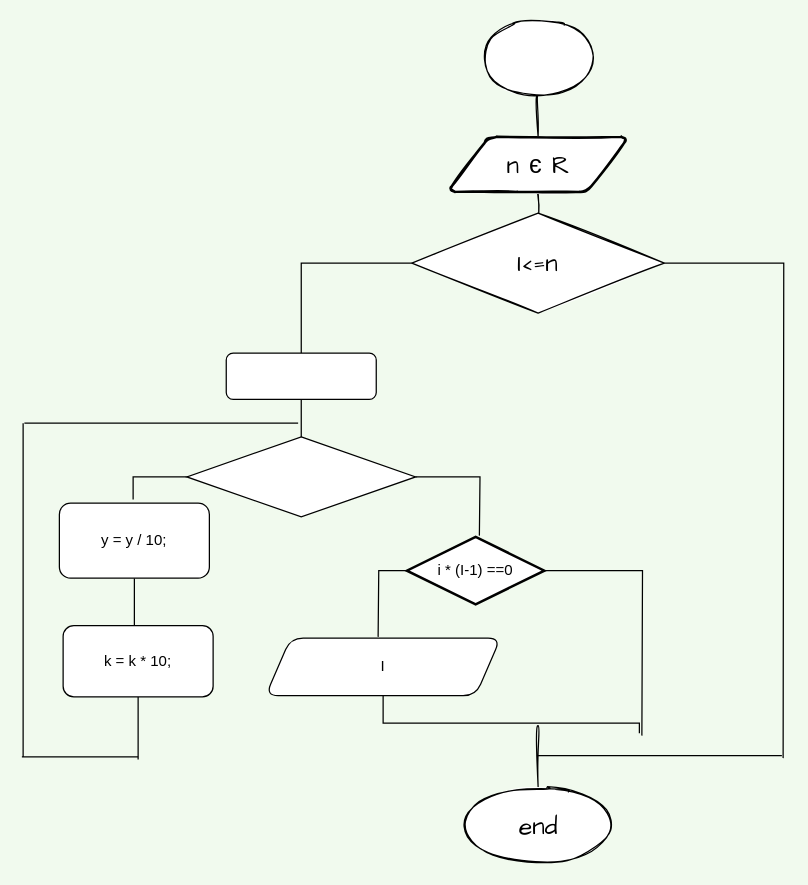
Some shapes in this 808 by 885 pixel diagram are drawn without their labels. Here are the shapes that lost their labels. From the top down, the box of each, then its label:
(479, 21, 596, 94): start
(225, 352, 376, 399): y=I ; k=1; I++
(186, 436, 416, 517): y!=0
